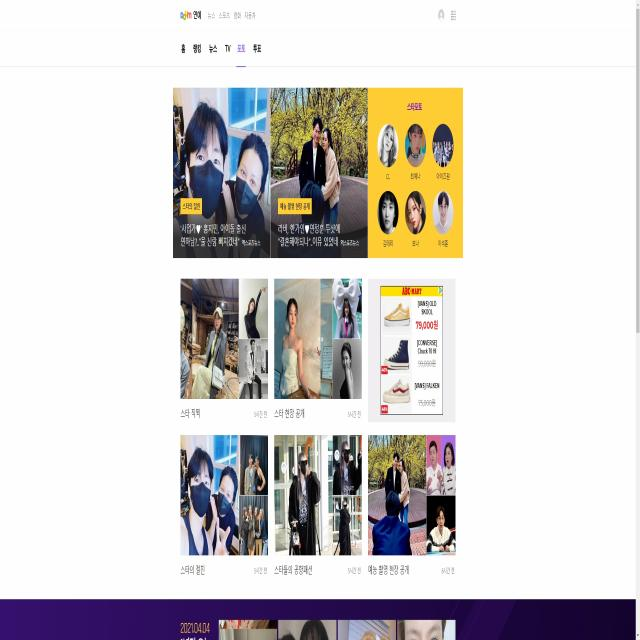menu-bar: (434, 4, 460, 26)
tab-bar: (177, 34, 267, 67), (176, 8, 258, 26)
